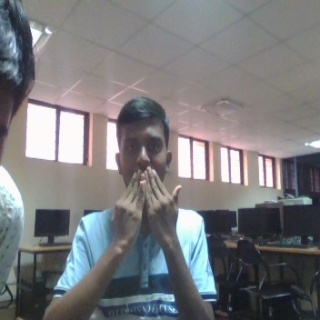Thank You: (113, 167, 183, 256)
